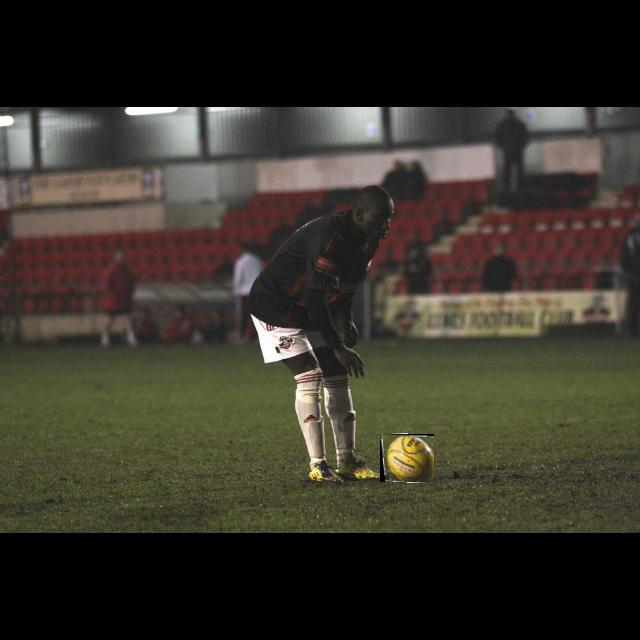Football: (380, 434, 434, 482)
